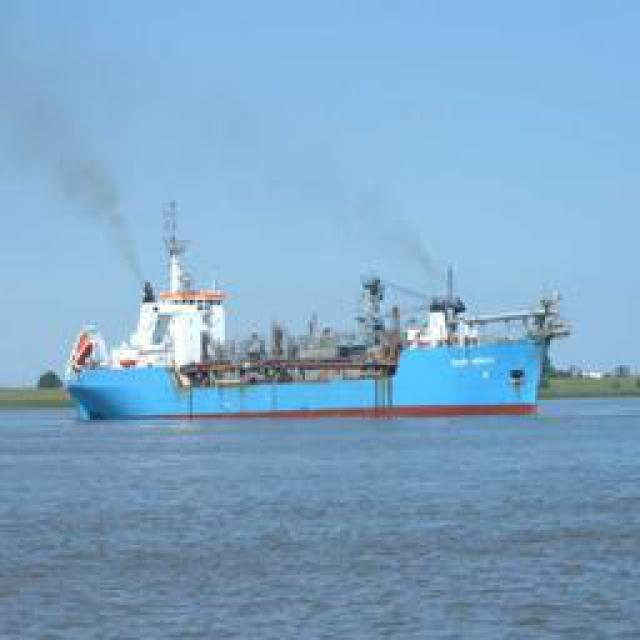Ship: (56, 255, 559, 425)
